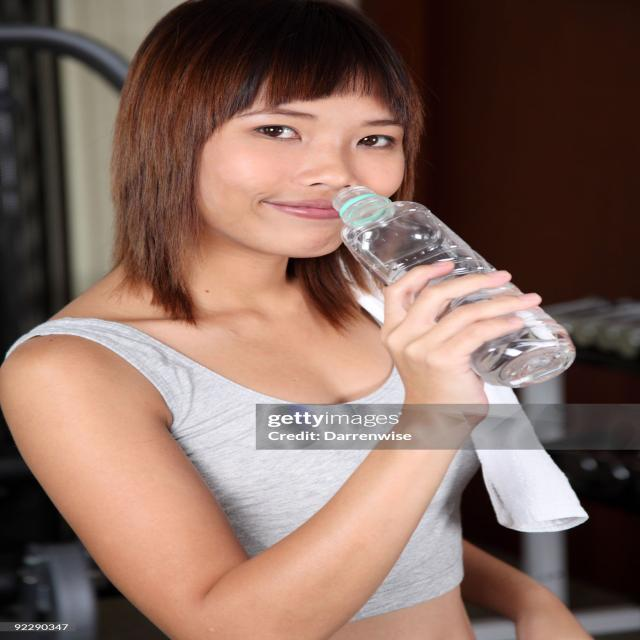bottle: (330, 187, 576, 390)
